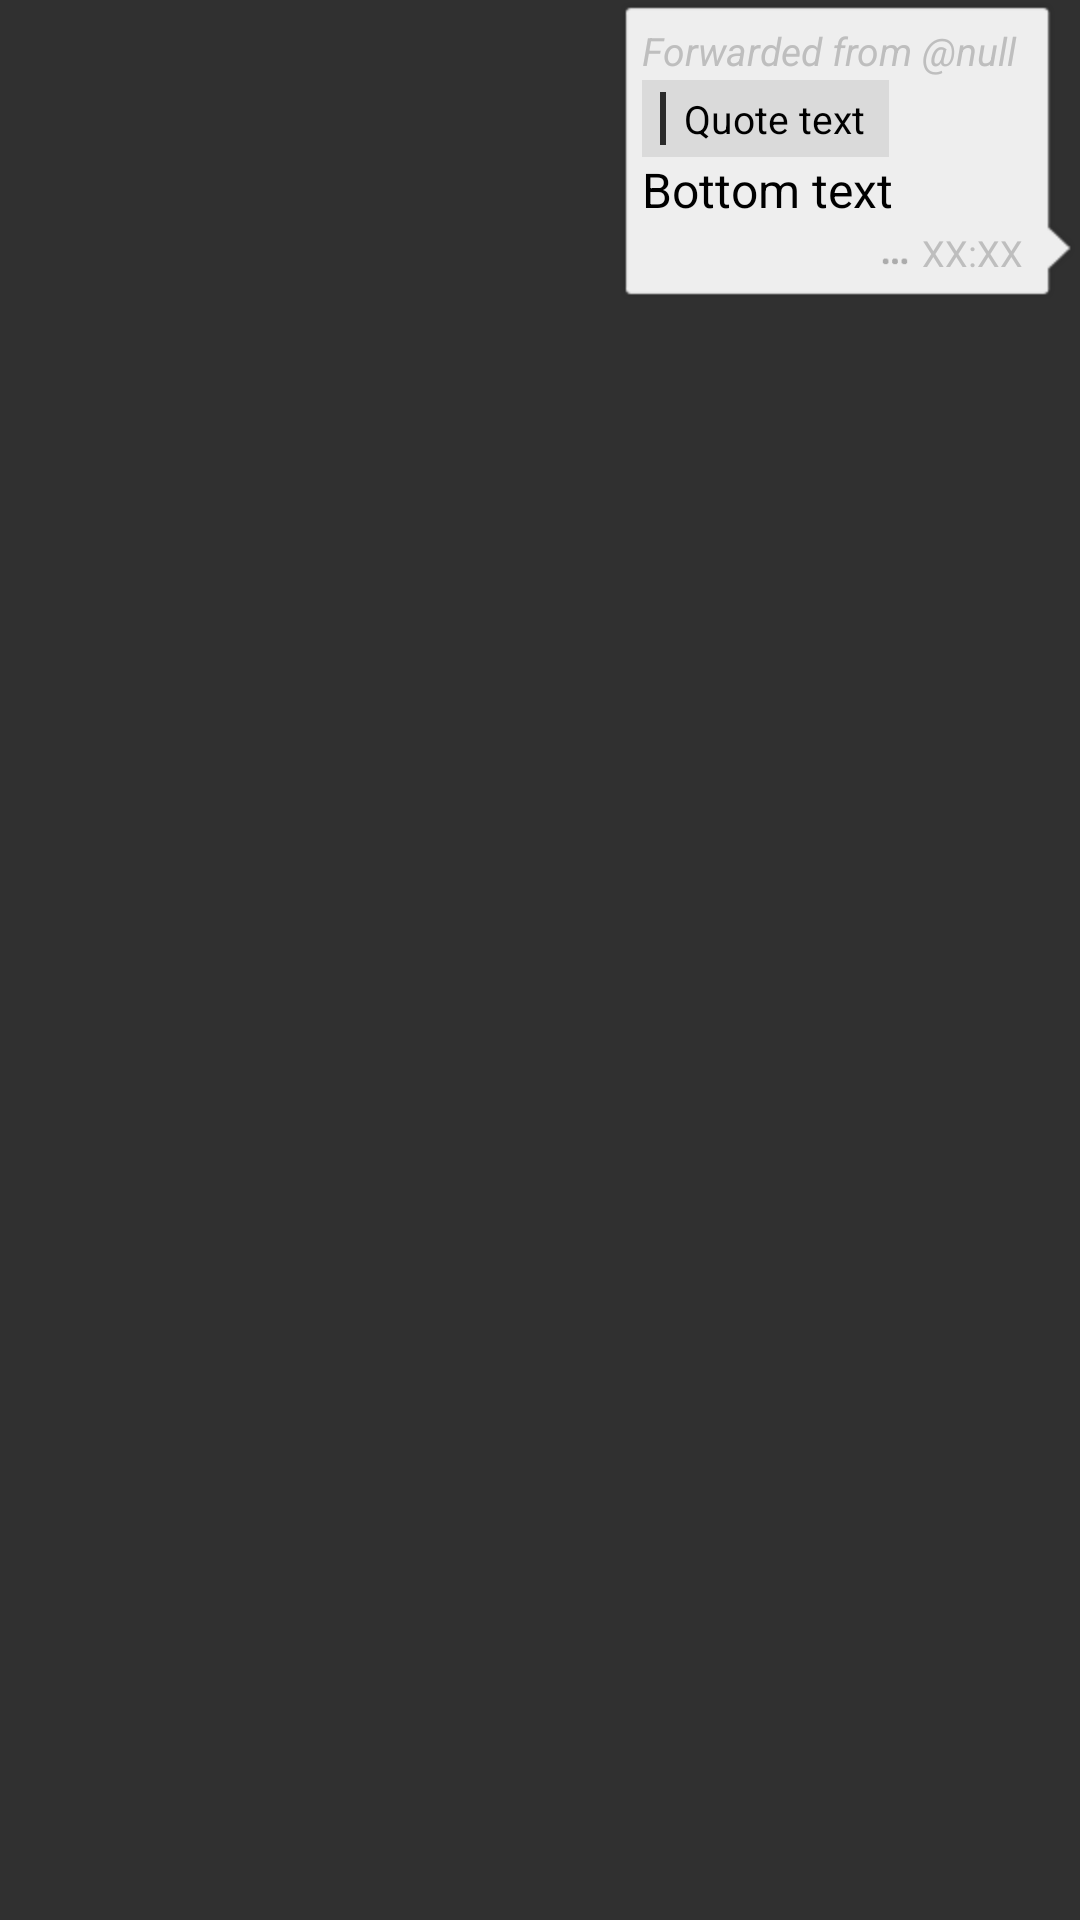

Where to tap for icons on this 1080w x 1920h app screen, as [x,y]:
wait: [895,261]
